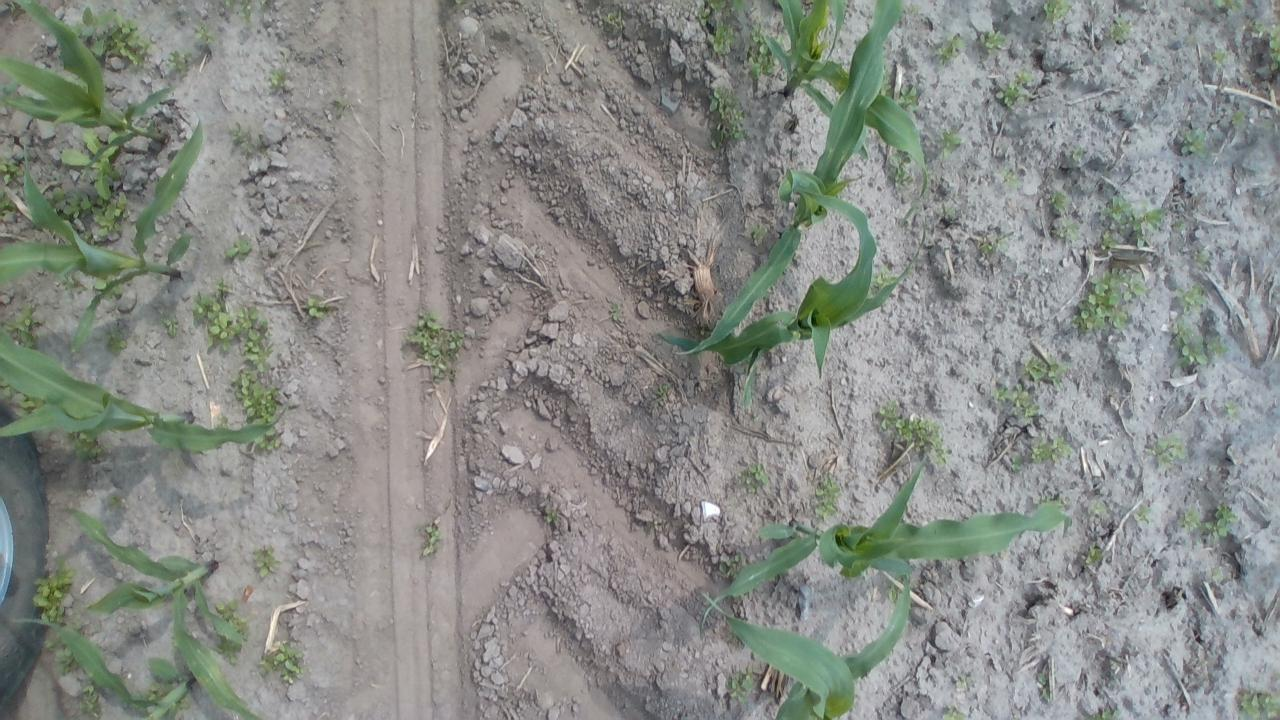Maize: (672, 0, 905, 361), (698, 454, 1074, 628), (658, 191, 926, 409), (0, 117, 204, 355), (58, 506, 262, 720), (760, 0, 929, 223), (0, 324, 285, 450), (699, 572, 912, 720), (0, 0, 176, 168), (7, 616, 198, 720)
Weeds: (1072, 266, 1146, 334), (75, 7, 153, 69), (59, 126, 123, 198), (877, 404, 952, 465), (406, 311, 464, 382), (230, 369, 282, 448), (1100, 195, 1166, 250), (194, 282, 238, 352), (26, 561, 74, 625), (1167, 319, 1230, 367), (707, 86, 746, 150), (237, 304, 272, 368), (746, 24, 784, 80), (258, 640, 306, 684), (0, 304, 40, 350), (991, 383, 1041, 418), (92, 192, 131, 236), (1022, 354, 1072, 388), (1, 382, 44, 417), (1144, 433, 1188, 467), (1236, 687, 1280, 720), (996, 71, 1034, 108), (694, 0, 747, 26), (1202, 505, 1238, 543), (50, 186, 91, 219), (1029, 434, 1074, 464), (813, 473, 841, 521), (66, 432, 108, 463), (48, 637, 80, 675), (77, 681, 106, 720), (1176, 126, 1210, 158), (1174, 284, 1208, 314), (726, 668, 756, 702), (251, 544, 280, 579), (738, 463, 768, 495), (216, 634, 244, 666), (224, 0, 258, 26), (420, 519, 443, 557), (708, 25, 738, 54), (938, 122, 962, 158), (268, 61, 294, 94), (222, 236, 255, 262), (977, 232, 1014, 255), (231, 125, 262, 152), (717, 552, 745, 581), (1106, 16, 1136, 43), (1262, 26, 1280, 71), (1042, 0, 1074, 25), (938, 33, 966, 61), (1051, 214, 1080, 241), (888, 154, 912, 186), (894, 82, 922, 109), (190, 20, 220, 45), (1178, 505, 1204, 532), (979, 29, 1007, 54), (0, 158, 24, 186), (102, 330, 130, 354), (744, 223, 772, 246), (95, 274, 124, 296), (166, 48, 192, 72), (304, 294, 328, 319), (1045, 188, 1068, 214), (214, 600, 241, 622), (1212, 0, 1246, 16), (1088, 704, 1122, 720), (1033, 494, 1069, 509), (872, 265, 896, 287), (161, 314, 181, 338), (0, 192, 17, 220), (1038, 668, 1052, 702), (1002, 166, 1024, 187), (59, 272, 82, 292), (1132, 503, 1152, 526), (330, 94, 348, 119), (940, 704, 968, 720), (606, 296, 623, 322), (143, 681, 165, 701), (603, 10, 625, 30), (936, 203, 959, 221), (1210, 46, 1230, 66), (1085, 544, 1103, 566), (1230, 108, 1249, 128), (954, 672, 973, 692), (1193, 246, 1210, 268), (1066, 146, 1084, 166), (1087, 500, 1108, 516), (542, 508, 560, 526), (106, 492, 125, 509), (1224, 400, 1242, 417), (1248, 20, 1266, 36), (653, 383, 669, 401), (1010, 453, 1024, 473), (1205, 568, 1223, 582), (881, 71, 892, 92), (650, 518, 662, 535), (1172, 220, 1186, 234), (177, 700, 191, 710), (889, 589, 898, 604)
